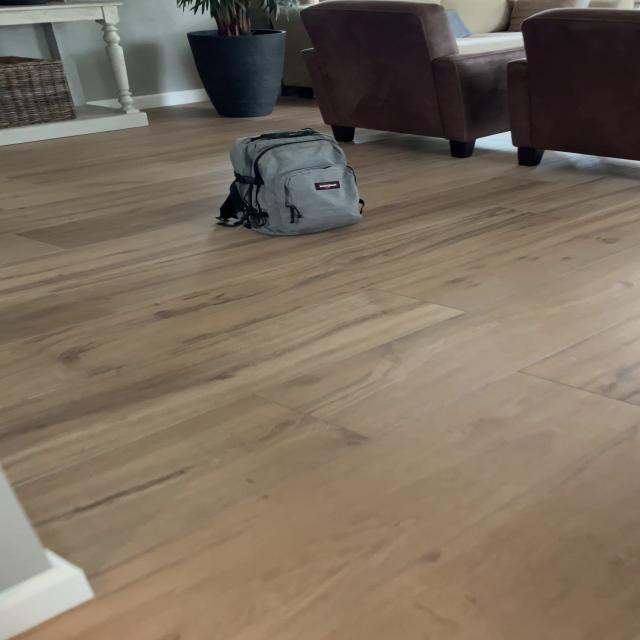backpack: (213, 123, 370, 240)
